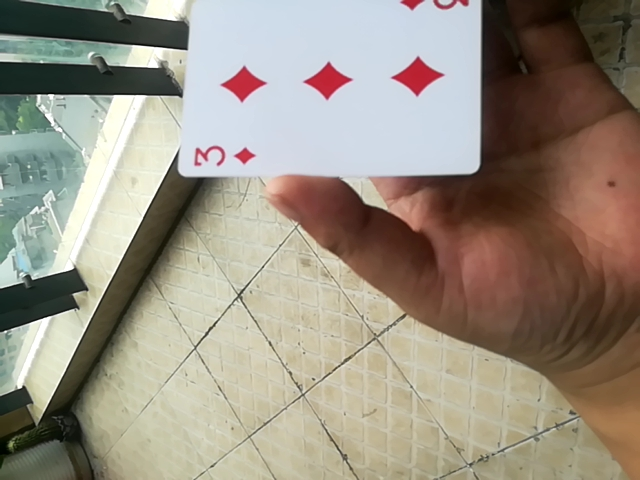fk 3: (165, 0, 484, 185)
